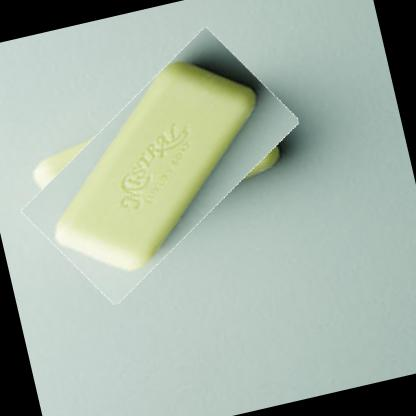soap: (5, 41, 317, 291)
